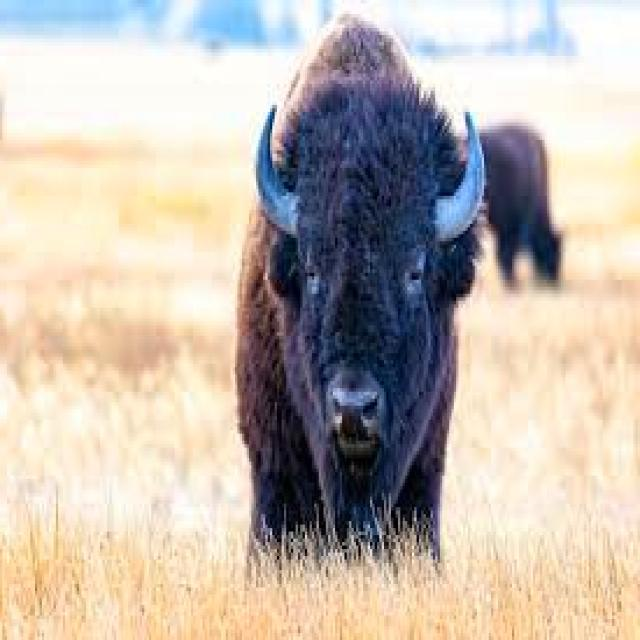bison: (237, 10, 486, 549)
